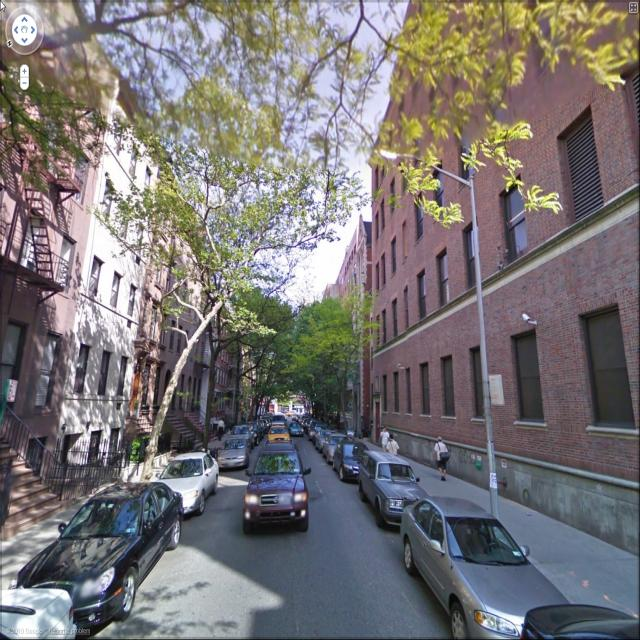b_2: (370, 1, 640, 442), (2, 11, 114, 453), (66, 62, 140, 490), (310, 227, 379, 436), (170, 216, 202, 445), (143, 176, 171, 424), (205, 281, 237, 431)
